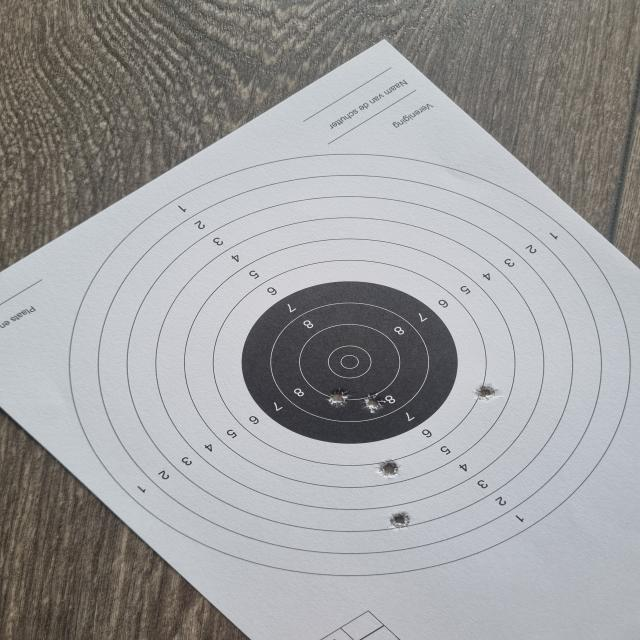3: (389, 512, 411, 528)
5: (378, 460, 401, 476)
6: (475, 386, 496, 400)
9: (363, 394, 386, 413), (326, 389, 348, 405)
Target: (70, 152, 631, 577)
black_contour: (239, 280, 460, 444)
